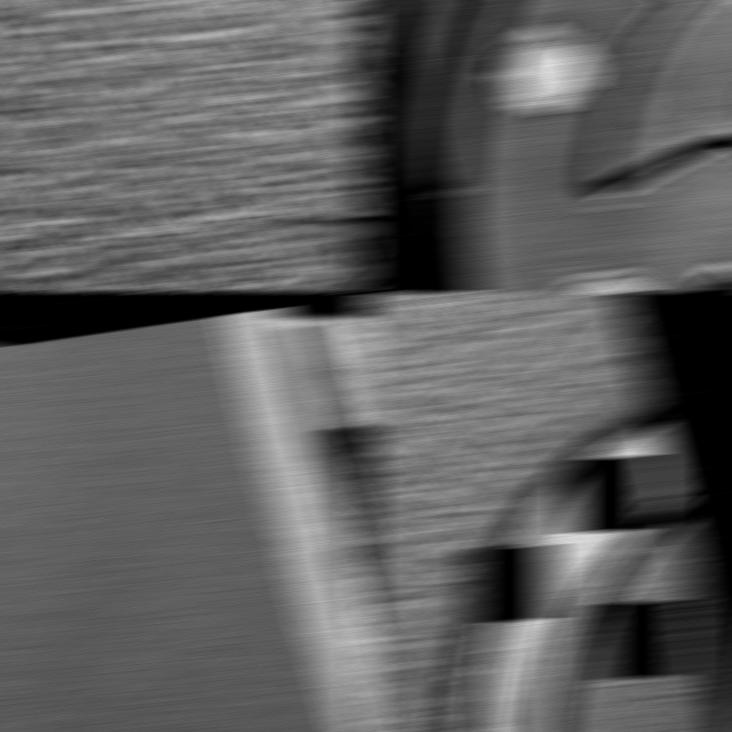Airbag: (357, 292, 732, 731), (0, 292, 374, 731), (357, 0, 732, 291), (0, 0, 374, 291)
